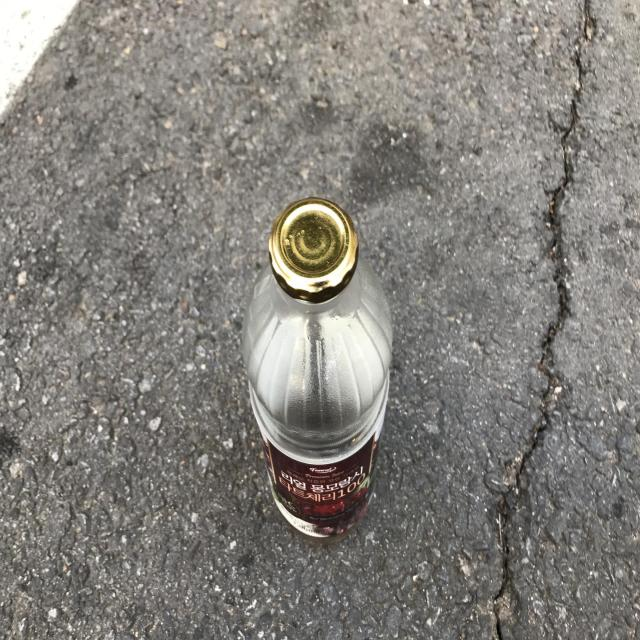glass: (243, 197, 393, 540)
